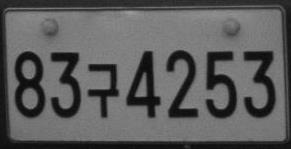2: (164, 49, 199, 119)
3: (242, 50, 277, 117), (49, 51, 81, 119)
4: (125, 49, 161, 118)
5: (204, 50, 237, 118)
8: (13, 50, 46, 118)
구: (87, 62, 120, 118)
